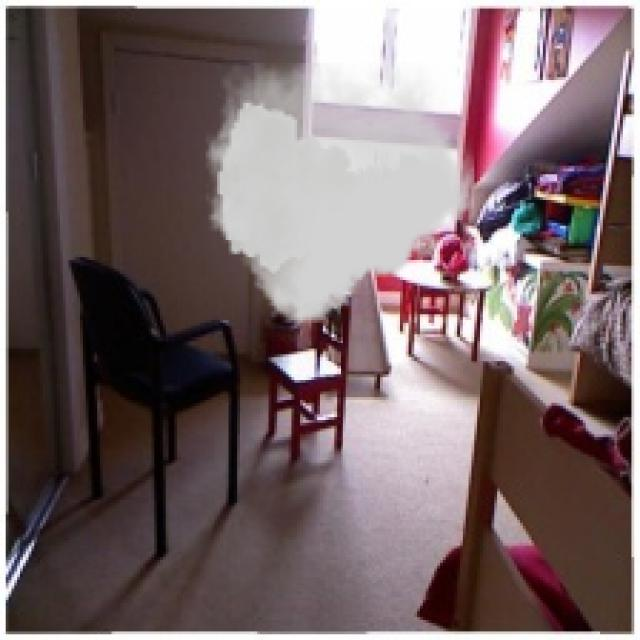smoke: (206, 63, 474, 323)
